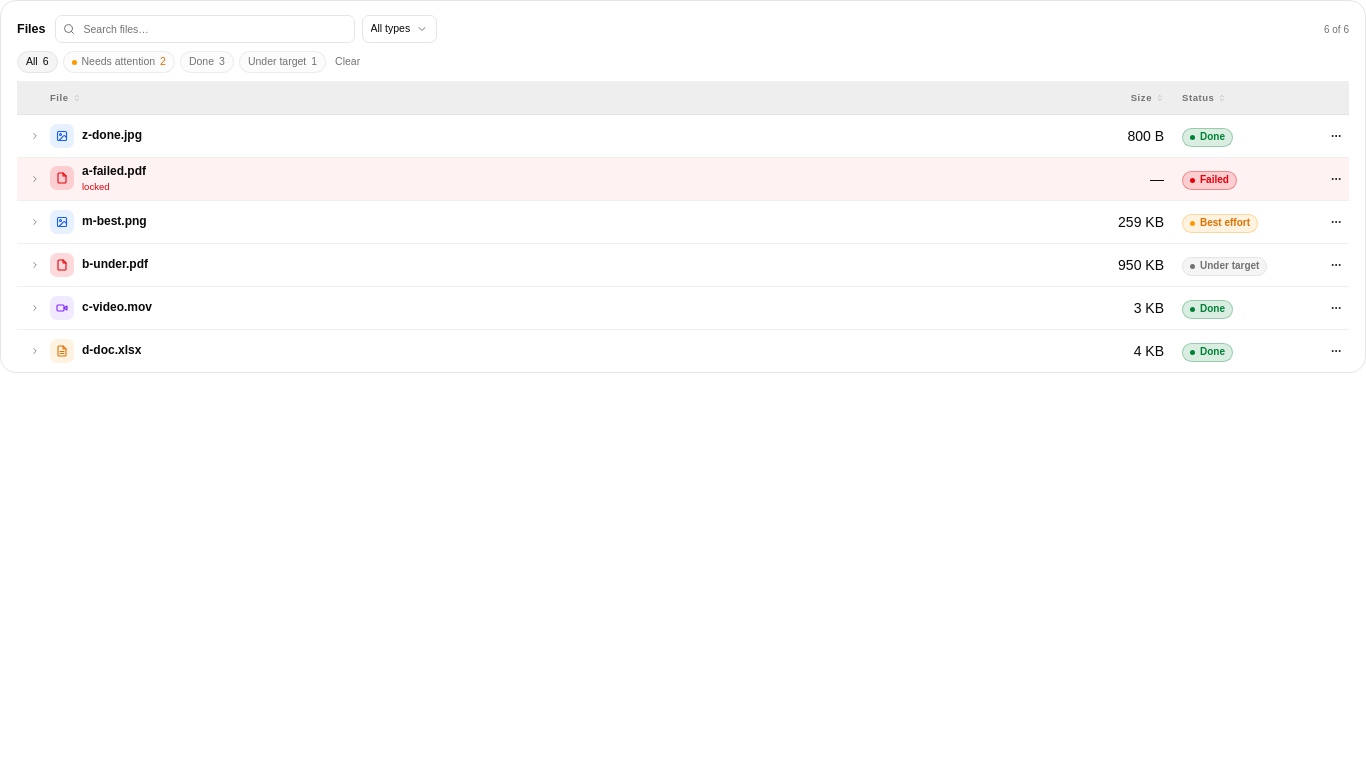
HistoryFilesTable › expands one row at a time and renders the three-card detail
Click the button named "Expand m-best.png" at (34, 222), box 26,213 -> 43,230
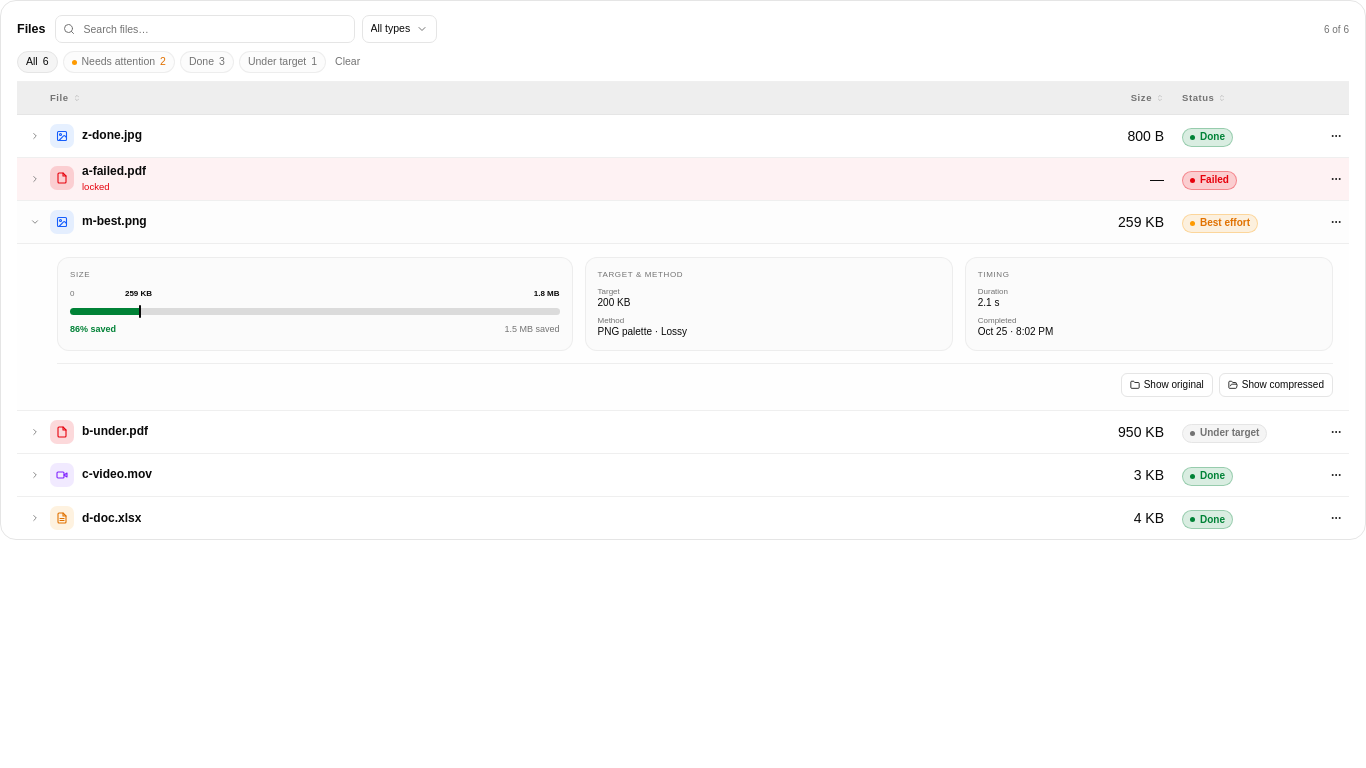
Expected: the element with test id "history-file-detail" is shown, 17,244 -> 1349,410
Expected: the text "PNG palette · Lossy" is shown, 598,326 -> 687,337
Expected: the text "1.8 MB" is shown, 534,288 -> 560,299
Click the button named "Expand z-done.jpg" at (34, 136), box 26,127 -> 43,144
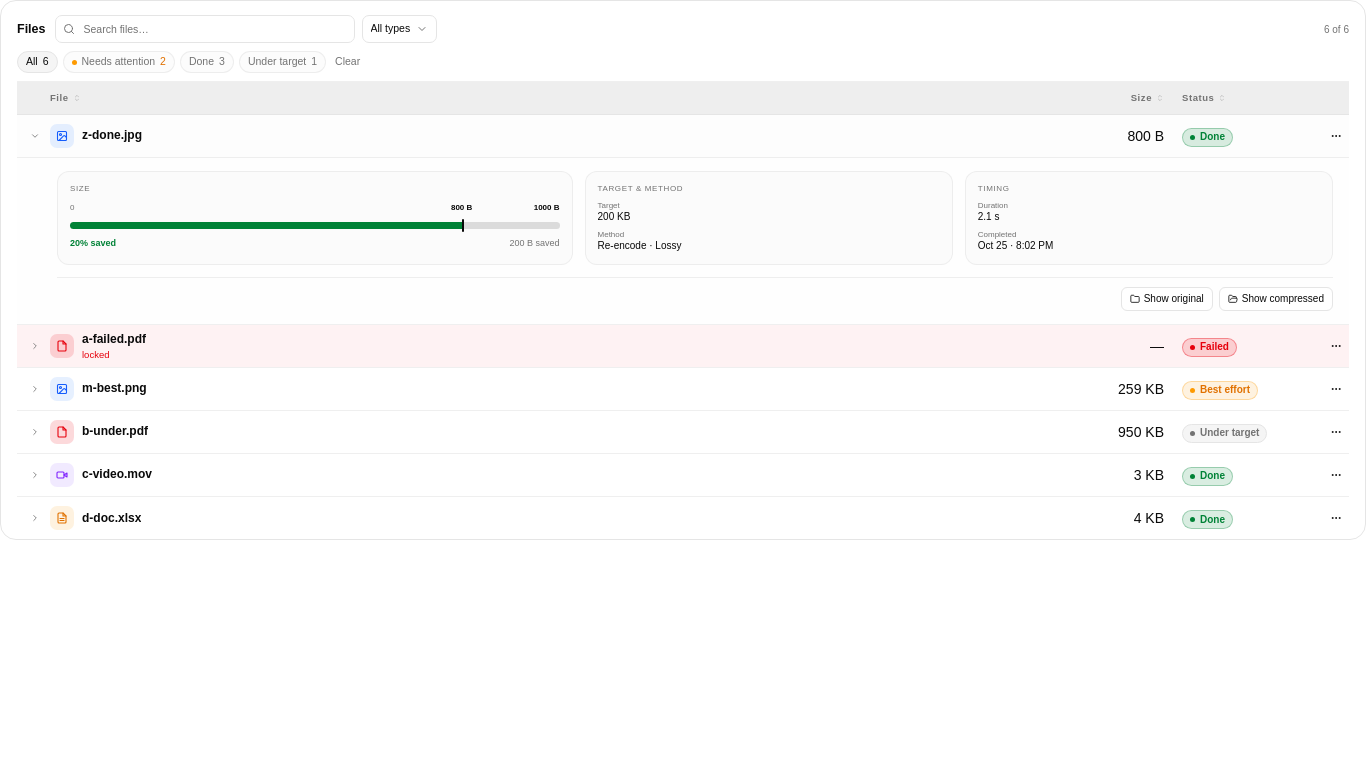
Expected: the number of elements with test id "history-file-detail" is 1, 17,158 -> 1349,324
Expected: the text "PNG palette · Lossy" is gone
Expected: the button named "Collapse z-done.jpg" is expanded, 26,127 -> 41,144
